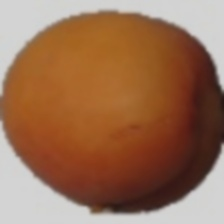apricot: (41, 17, 208, 192)
